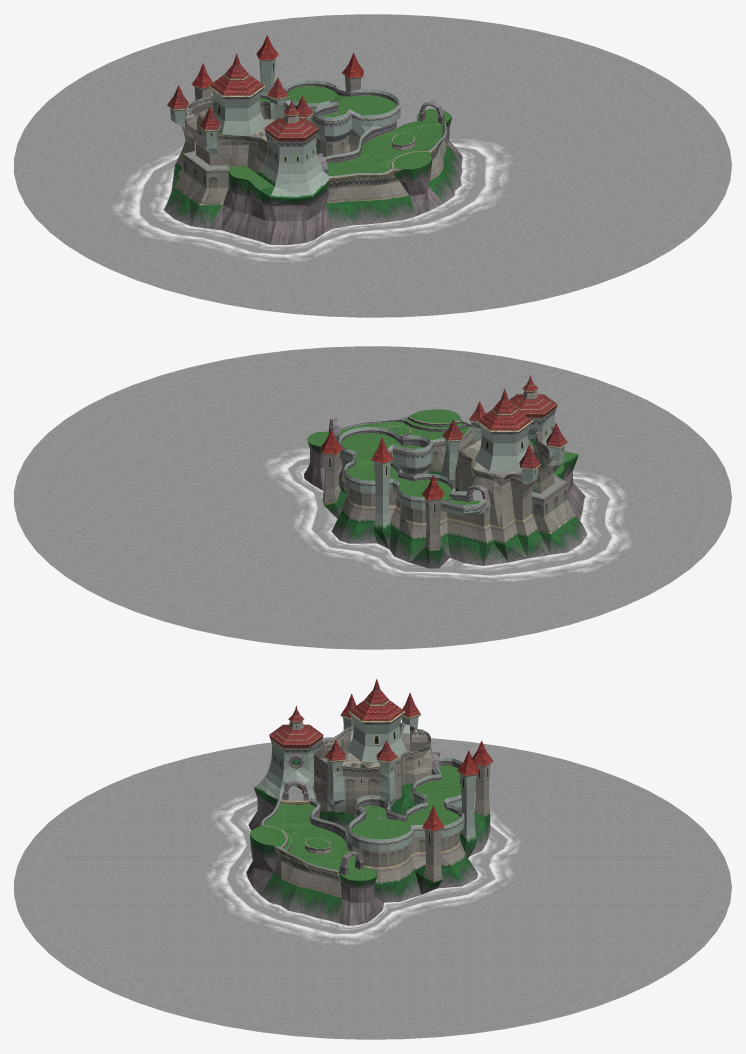
Rendered from 1_Toasty.M.dae.
3 views of the same model, one above another, from view 1: azimuth 30°, elevation 25°; view 2: azimuth 150°, elevation 25°; view 3: azimuth 270°, elevation 25° (orthographic).
Parts seen in each view (by area): view 1: s1-1_019-n_M; view 2: s1-1_019-n_M; view 3: s1-1_019-n_M.
Part boxes in pixels (x1,y1,x2,y2): s1-1_019-n_M: [14, 14, 731, 317]; s1-1_019-n_M: [14, 346, 731, 649]; s1-1_019-n_M: [14, 678, 731, 1039].
Size of the model in its own units: 9777 by 9775 by 2184.
Materials: 1 (1 with a texture image).
